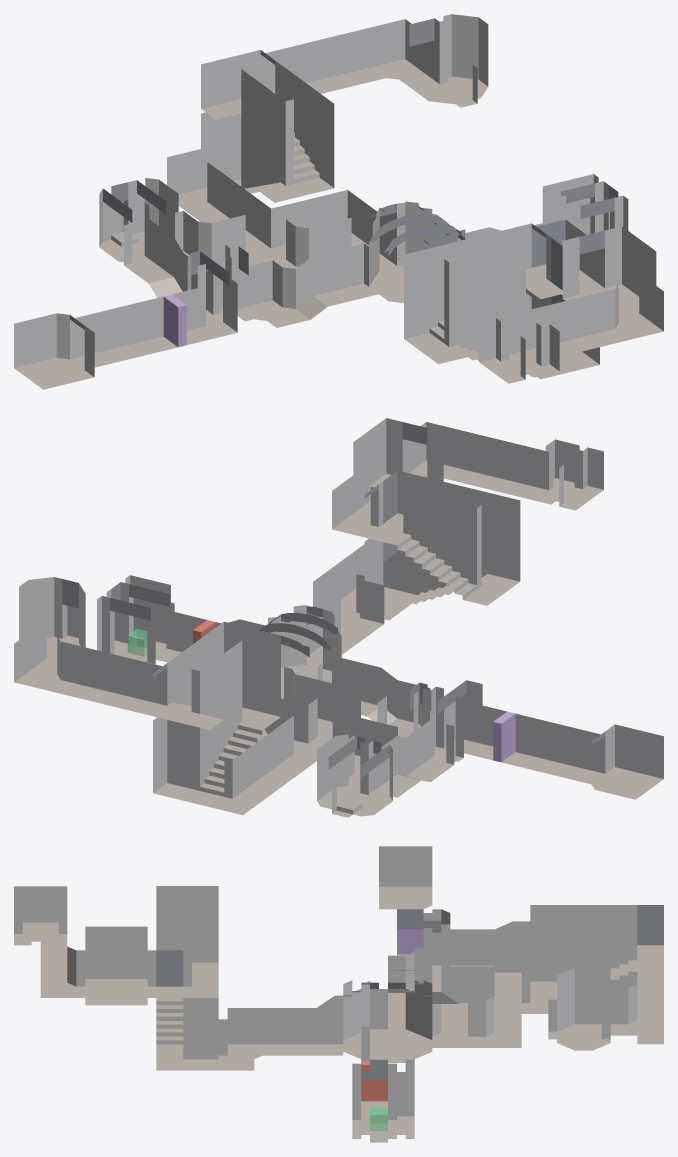
The model's file is research_14.glb.
3 views of the same model, one above another, from view 1: azimuth 30°, elevation 25°; view 2: azimuth 150°, elevation 25°; view 3: azimuth 270°, elevation 25° (orthographic). The views are drawn at different scales.
Parts seen in each view (by area): view 1: room:7, room:8, corridor:7, corridor:0, corridor:6, corridor:2, corridor:8, corridor:5, room:6, room:0, room:1, room:4 (+12 smaller); view 2: room:7, room:8, corridor:7, corridor:6, corridor:0, corridor:5, corridor:4, room:6, room:4, corridor:2, room:2, room:1 (+13 smaller); view 3: room:7, corridor:7, corridor:4, room:8, room:1, corridor:8, corridor:6, room:0, room:6, corridor:0, room:2, room:5 (+11 smaller).
Part boxes in pixels (left/top/right/bottom): room:7: left=201, top=50, right=334, bottom=202; room:8: left=404, top=223, right=565, bottom=379; corridor:7: left=530, top=219, right=663, bottom=356; corridor:0: left=260, top=19, right=434, bottom=93; corridor:6: left=167, top=149, right=381, bottom=268; corridor:2: left=238, top=243, right=378, bottom=327; corridor:8: left=175, top=190, right=377, bottom=265; corridor:5: left=70, top=288, right=211, bottom=369; room:6: left=14, top=313, right=94, bottom=389; room:0: left=409, top=14, right=488, bottom=104; room:1: left=369, top=201, right=465, bottom=302; room:4: left=99, top=178, right=178, bottom=263; room:7: left=153, top=621, right=280, bottom=806; room:8: left=364, top=470, right=520, bottom=620; corridor:7: left=332, top=418, right=540, bottom=537; corridor:6: left=210, top=667, right=360, bottom=814; corridor:0: left=14, top=623, right=167, bottom=716; corridor:5: left=469, top=705, right=605, bottom=784; corridor:4: left=306, top=544, right=397, bottom=664; room:6: left=591, top=724, right=663, bottom=799; room:4: left=317, top=734, right=392, bottom=816; corridor:2: left=318, top=655, right=430, bottom=737; room:2: left=97, top=575, right=173, bottom=664; room:1: left=261, top=605, right=341, bottom=698; room:7: left=530, top=905, right=663, bottom=1044; corridor:7: left=40, top=926, right=218, bottom=1005; corridor:4: left=156, top=1008, right=343, bottom=1070; room:8: left=156, top=886, right=218, bottom=1055; room:1: left=343, top=980, right=432, bottom=1062; corridor:8: left=468, top=936, right=530, bottom=1047; corridor:6: left=432, top=966, right=548, bottom=1047; room:0: left=557, top=967, right=610, bottom=1050; room:6: left=379, top=846, right=432, bottom=909; corridor:0: left=610, top=971, right=663, bottom=1035; room:2: left=352, top=1059, right=414, bottom=1138; room:5: left=14, top=886, right=67, bottom=945.
Size of the model in its own units: 68 by 17 by 73.
